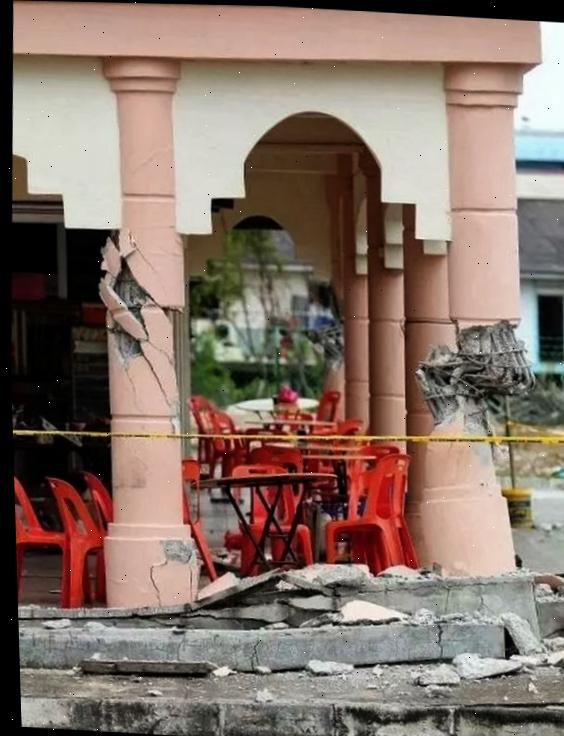spalling: (415, 320, 534, 433), (113, 261, 149, 319), (107, 323, 142, 361), (161, 538, 194, 563), (121, 265, 131, 284)
